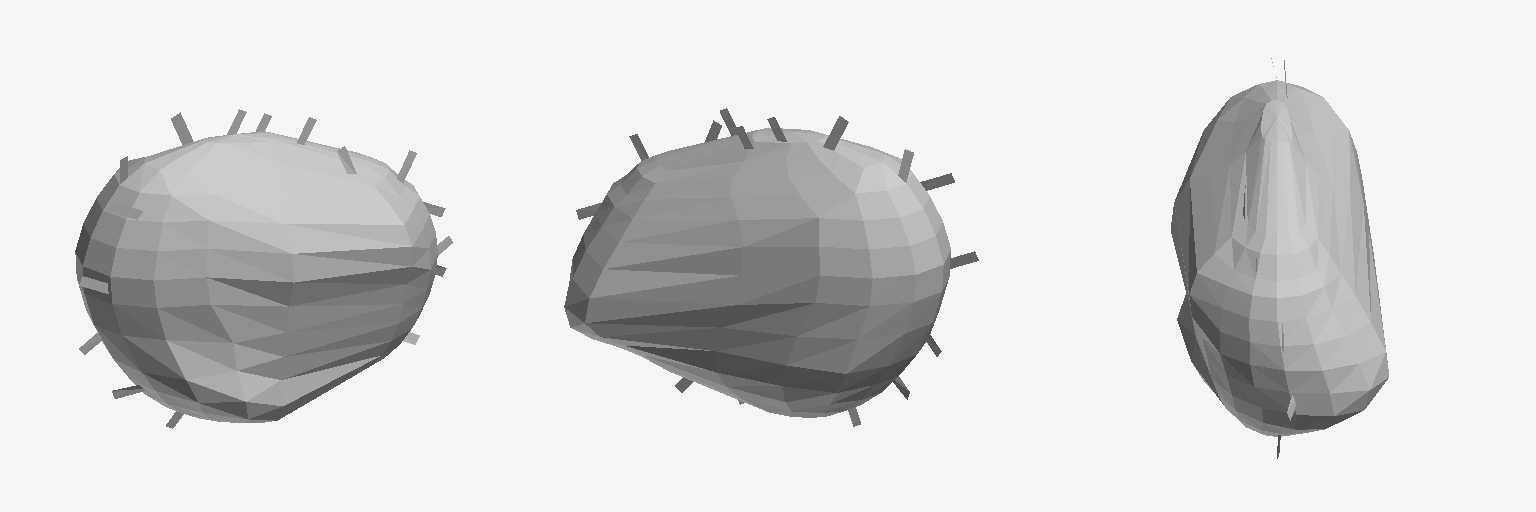
Rendered from YellowMicrobiota.obj.
3 renders of one model, left to right at view 1: azimuth 30°, elevation 25°; view 2: azimuth 150°, elevation 25°; view 3: azimuth 270°, elevation 25°, orthographic.
Visible parts, largest first — view 1: Plane.017; view 2: Plane.017; view 3: Plane.017.
Part boxes in pixels (x1,y1,x2,y2): Plane.017: (75,109,452,428); Plane.017: (564,108,978,426); Plane.017: (1171,58,1388,458).
Bounding box in the file's own units: 2.88 × 2.27 × 1.41.